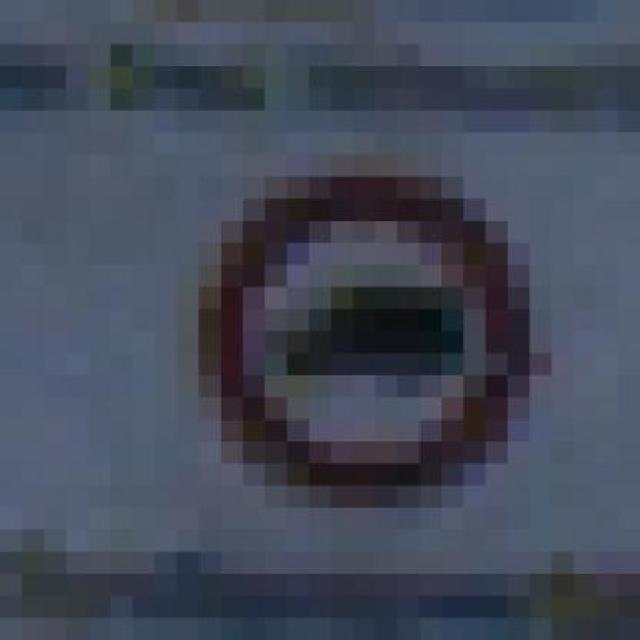Truck traffic is prohibited: (110, 176, 530, 552)
